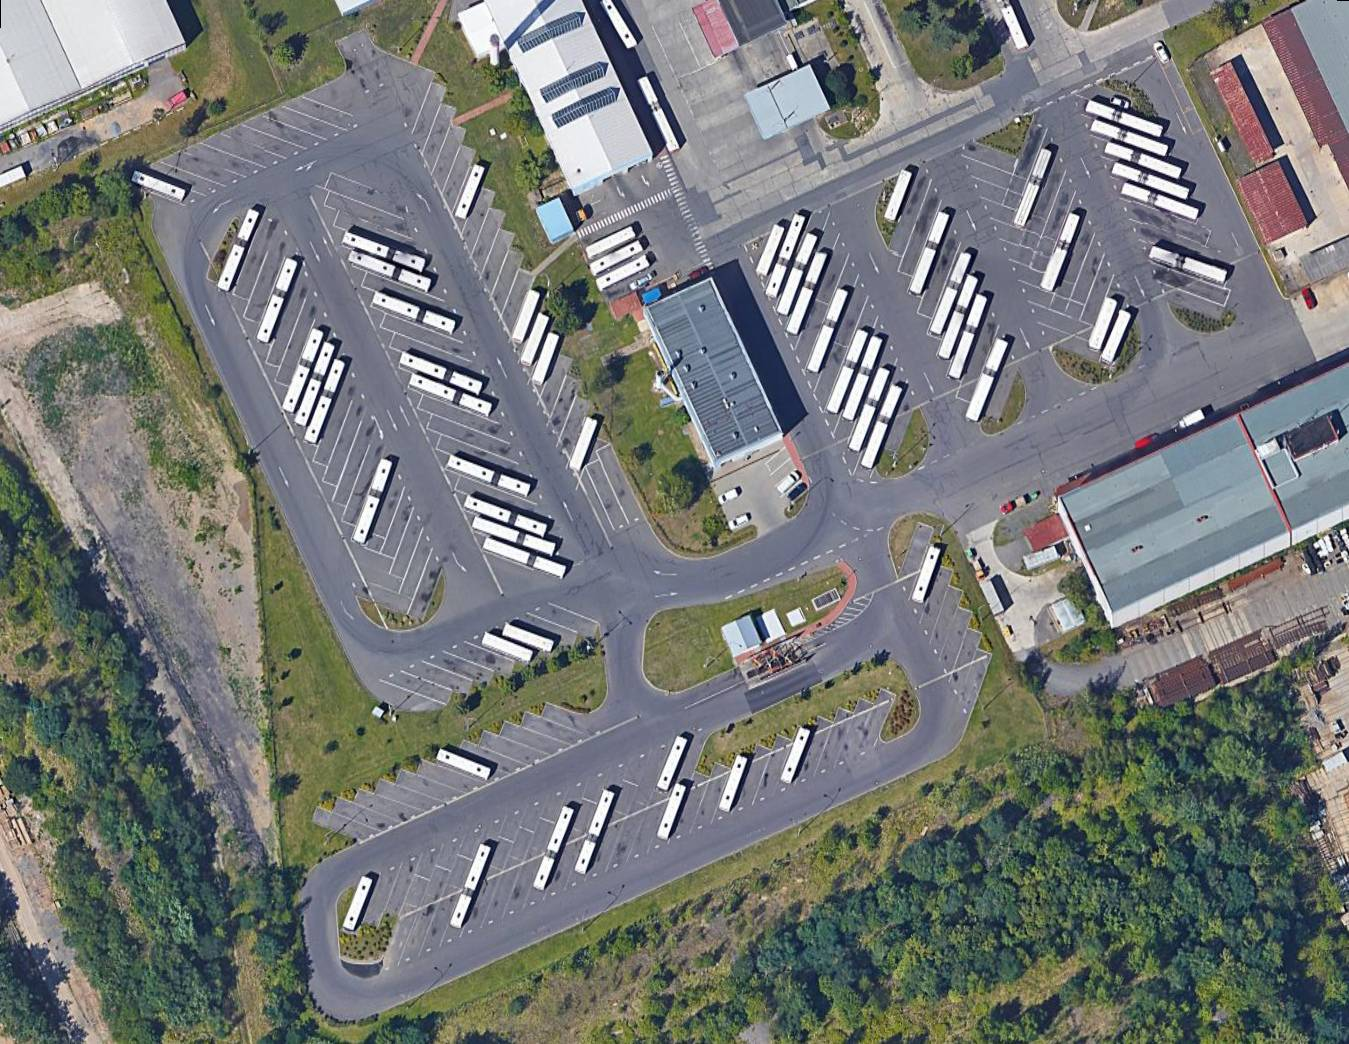large vehicle: (825, 328, 870, 418), (858, 383, 904, 472), (841, 334, 886, 424), (531, 804, 577, 892), (445, 454, 532, 500), (254, 257, 300, 345), (281, 326, 326, 415), (848, 366, 892, 455), (965, 337, 1011, 424), (399, 352, 486, 397), (929, 251, 973, 339), (805, 287, 850, 375), (295, 340, 338, 428), (448, 844, 493, 930), (775, 231, 820, 318), (351, 458, 395, 546), (408, 372, 494, 417), (372, 291, 458, 336), (947, 292, 990, 382), (938, 273, 981, 363), (785, 249, 828, 339), (482, 536, 568, 580), (464, 494, 549, 539), (574, 788, 616, 875), (471, 515, 558, 558), (304, 358, 348, 444), (217, 208, 261, 294), (908, 211, 952, 297), (764, 213, 807, 300), (348, 249, 433, 292), (636, 74, 682, 154), (1012, 147, 1054, 229), (1040, 213, 1082, 292), (1120, 181, 1200, 222), (1085, 97, 1165, 139), (343, 232, 427, 272), (1104, 141, 1184, 182), (1112, 160, 1191, 200), (1091, 118, 1171, 158), (1149, 244, 1227, 284), (593, 254, 652, 294), (588, 240, 645, 278), (341, 875, 376, 936), (655, 734, 690, 794), (581, 225, 638, 261), (1099, 308, 1134, 366), (131, 168, 188, 203), (718, 754, 750, 814), (911, 544, 943, 605), (518, 311, 551, 369), (779, 727, 811, 785), (509, 289, 543, 345), (601, 1, 638, 51), (436, 747, 493, 780), (454, 164, 487, 221), (1087, 297, 1120, 353), (481, 631, 535, 664), (657, 782, 687, 842), (568, 416, 600, 472), (754, 223, 786, 278), (531, 332, 562, 388), (883, 170, 914, 223), (501, 623, 556, 654), (999, 4, 1031, 53)
